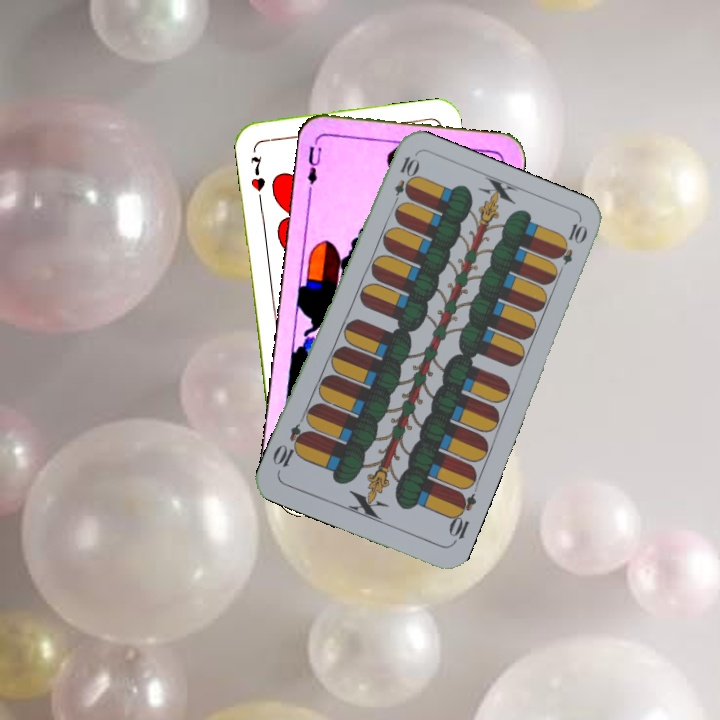E10: (444, 488, 479, 547), (388, 152, 420, 210)
EU: (303, 136, 324, 195)
H7: (246, 152, 268, 203)
